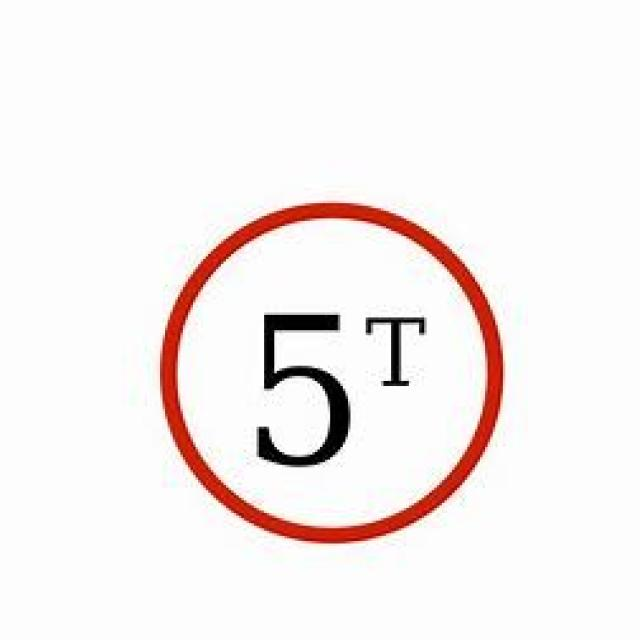load_limit: (155, 201, 503, 544)
